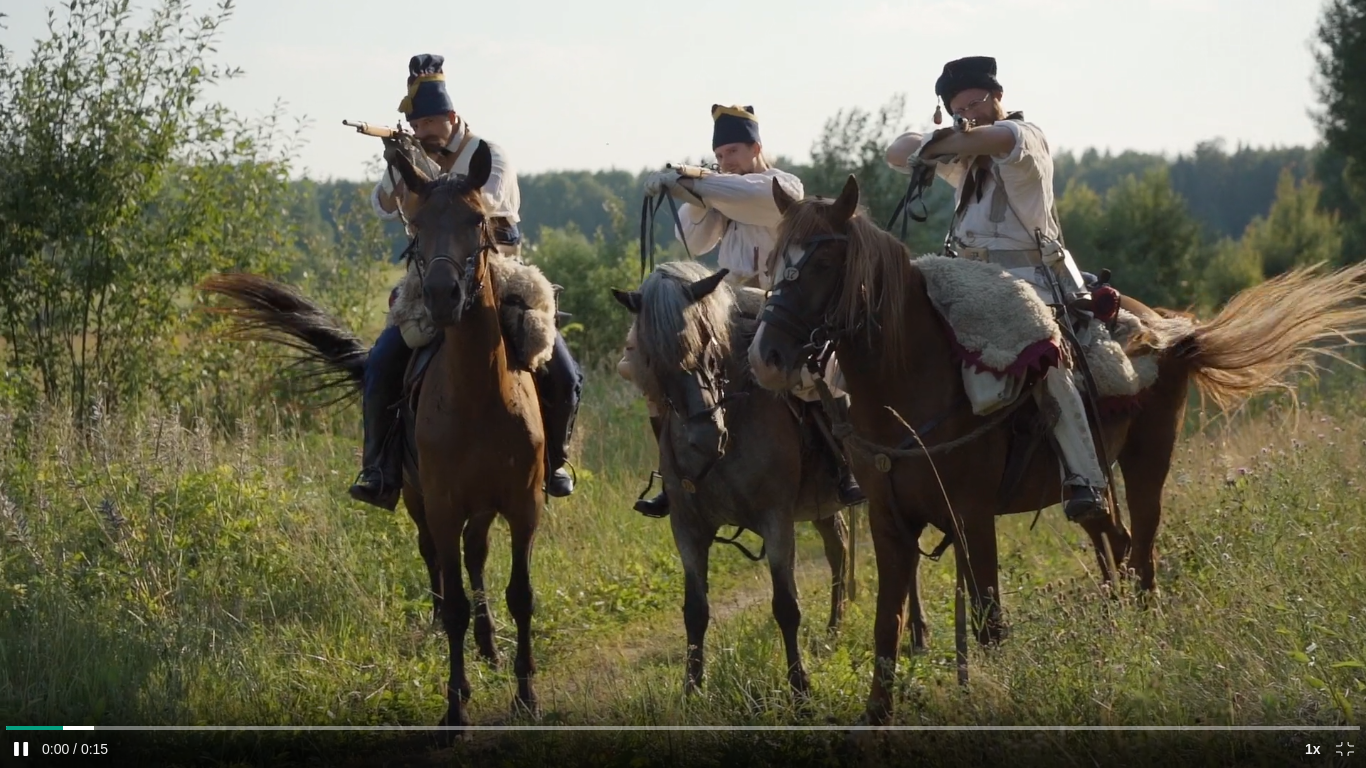gun: (342, 110, 425, 178), (665, 159, 727, 180), (953, 115, 974, 135)
p_w_gun: (340, 50, 587, 511), (882, 54, 1117, 530), (657, 97, 814, 304)
